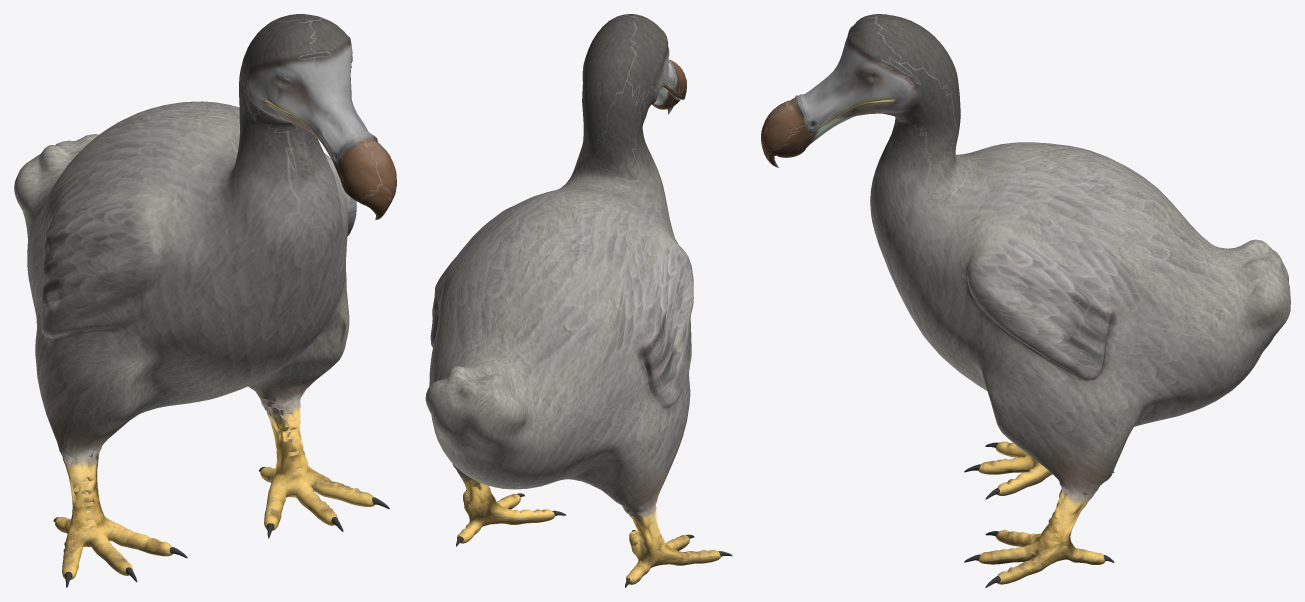
File: dodo_parado.glb
3 views of the same model, side by side, from view 1: azimuth 30°, elevation 25°; view 2: azimuth 150°, elevation 25°; view 3: azimuth 270°, elevation 25° (orthographic). The views are drawn at different scales.
Parts seen in each view (by area): view 1: Sphere_0_fixo; view 2: Sphere_0_fixo; view 3: Sphere_0_fixo.
Part boxes in pixels (x1,y1,x2,y2): Sphere_0_fixo: [14, 14, 396, 587]; Sphere_0_fixo: [425, 14, 732, 587]; Sphere_0_fixo: [761, 14, 1290, 587].
Size of the model in its own units: 5.75 by 9.68 by 9.1.
2 materials, 1 textured.
